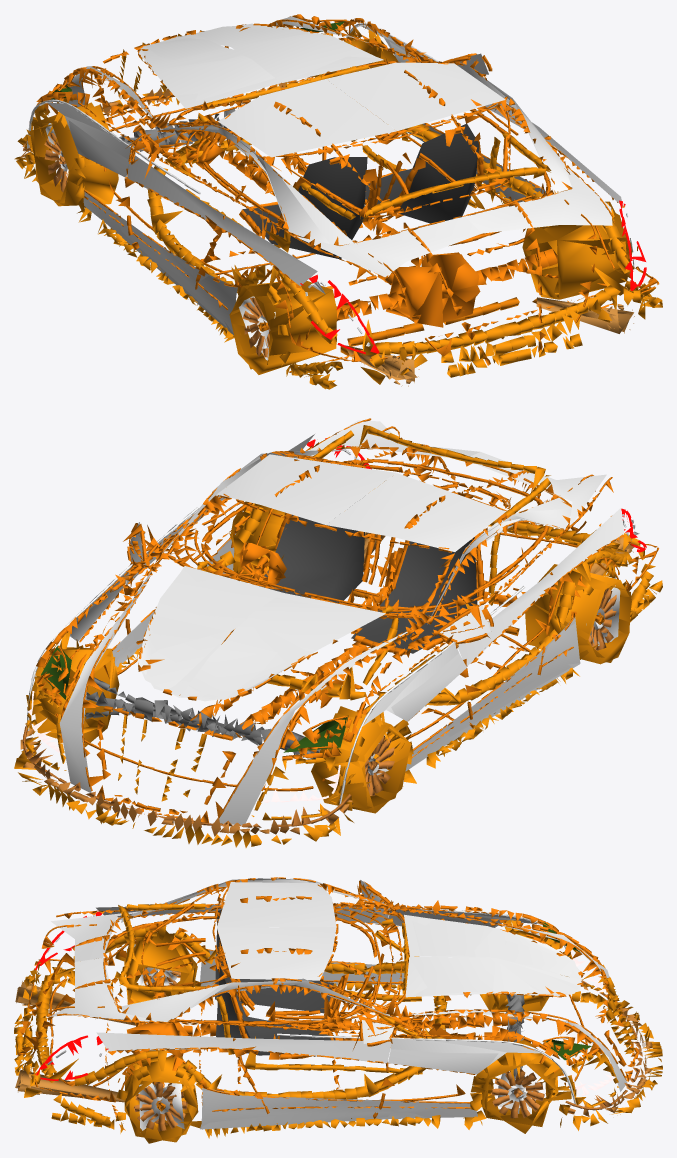
The model's file is concept.glb.
The picture shows the model from 3 angles, top to bottom: view 1: azimuth 30°, elevation 25°; view 2: azimuth 150°, elevation 25°; view 3: azimuth 270°, elevation 25°; orthographic projection. The views are drawn at different scales.
Visible parts, largest first — view 1: concept; view 2: concept; view 3: concept.
Part boxes in pixels (x1=…): concept: x1=14, y1=14, x2=662, y2=389; concept: x1=14, y1=418, x2=662, y2=847; concept: x1=14, y1=877, x2=662, y2=1143.
Size of the model in its own units: 2.46 by 1.15 by 4.51.
